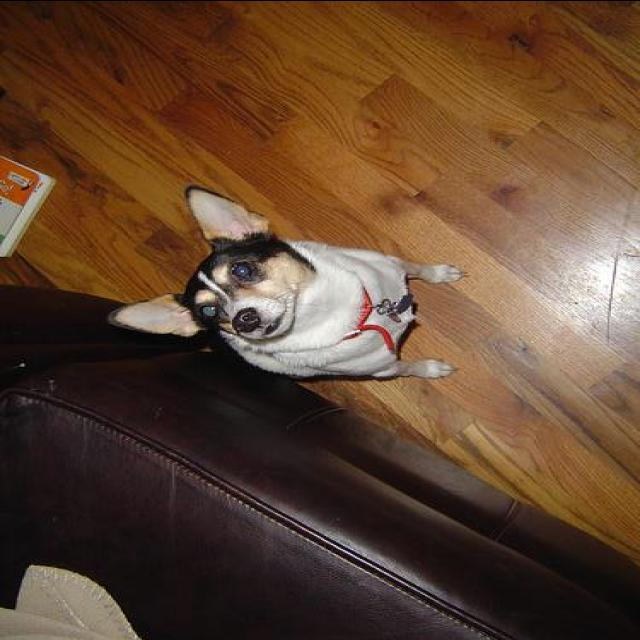toy_terrier: (108, 182, 464, 382)
